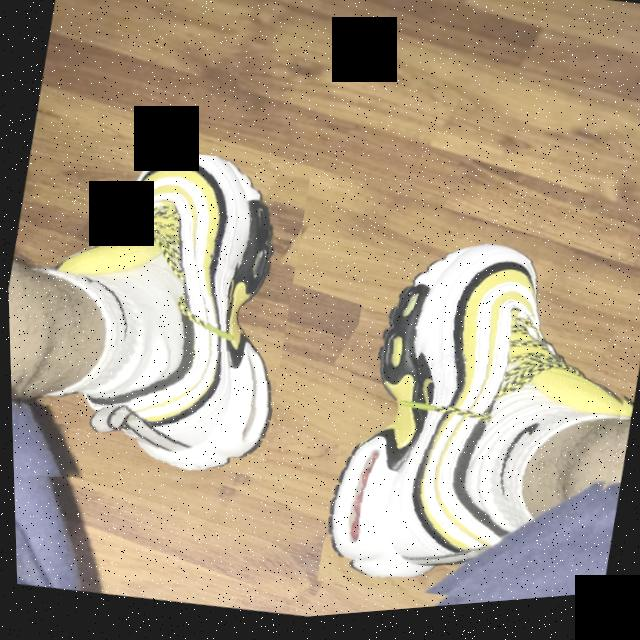shoe: (305, 211, 640, 621), (3, 122, 318, 522)
